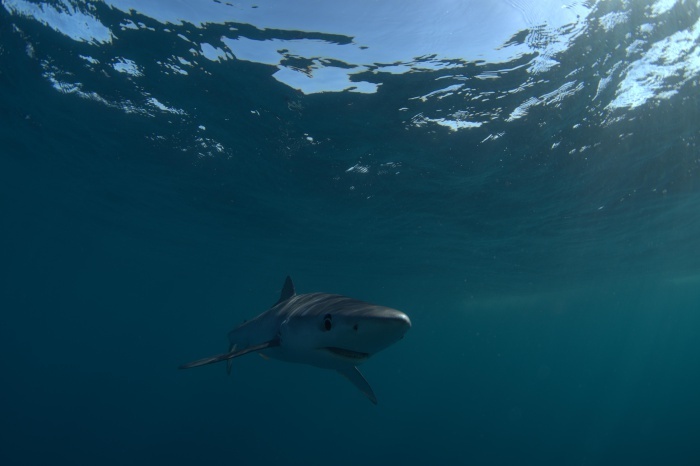Azul: (147, 265, 437, 404)
